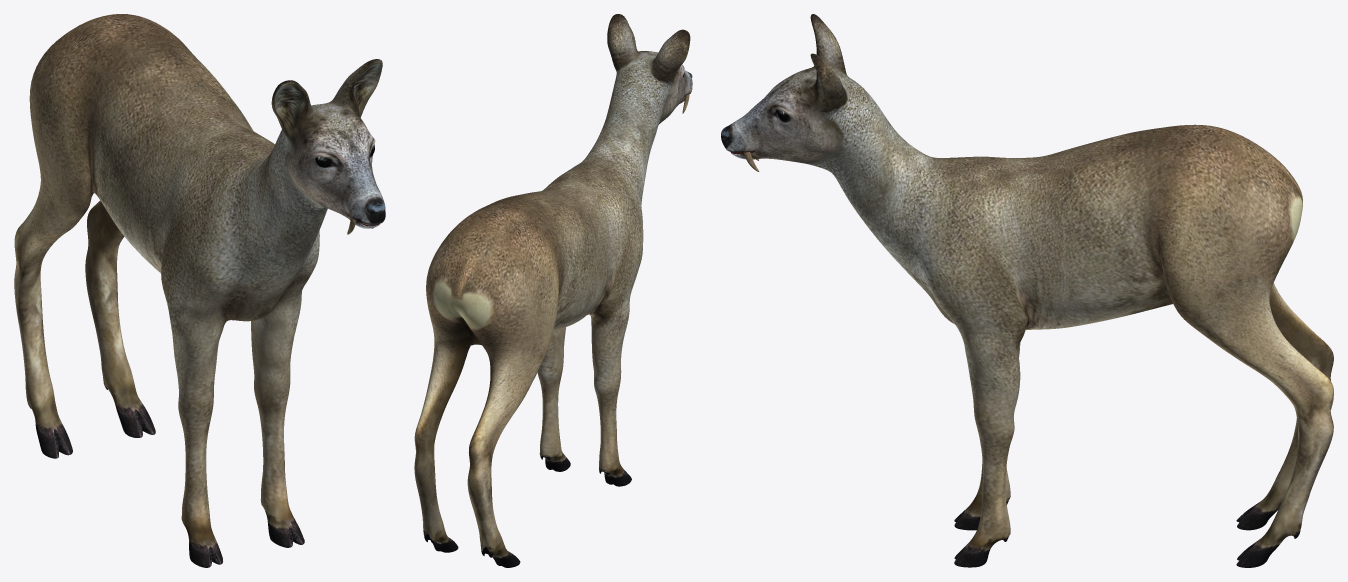
File: musk_deer.obj
3 renders of one model, left to right at view 1: azimuth 30°, elevation 25°; view 2: azimuth 150°, elevation 25°; view 3: azimuth 270°, elevation 25°, orthographic. The views are drawn at different scales.
Visible parts, largest first — view 1: 13573_Musk_Deer_v1_L3; view 2: 13573_Musk_Deer_v1_L3; view 3: 13573_Musk_Deer_v1_L3.
Part boxes in pixels (<box>): 13573_Musk_Deer_v1_L3: <box>14,14,385,567</box>; 13573_Musk_Deer_v1_L3: <box>414,14,692,567</box>; 13573_Musk_Deer_v1_L3: <box>721,14,1333,567</box>.
Bounding box in the file's own units: 18.01 × 65.18 × 71.14.
